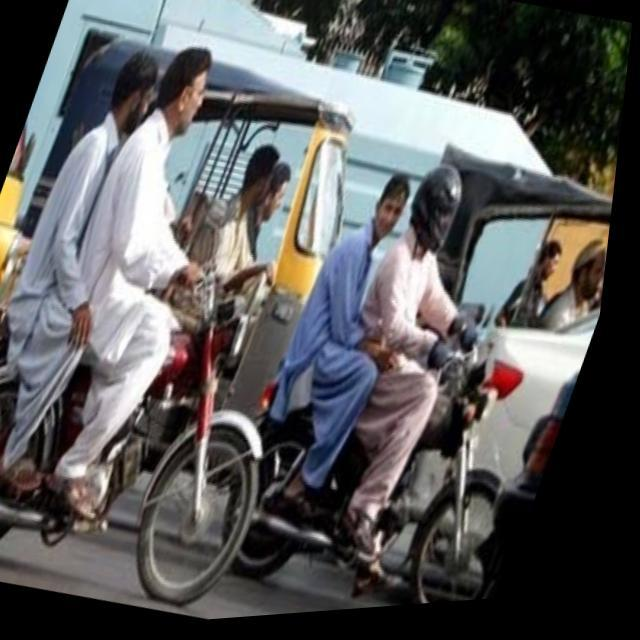Helmet: (409, 158, 463, 262)
Nonhelmet: (100, 45, 162, 142), (157, 38, 219, 134), (366, 162, 411, 238)
